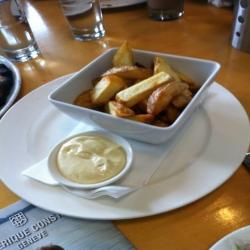fries: (76, 55, 214, 131)
